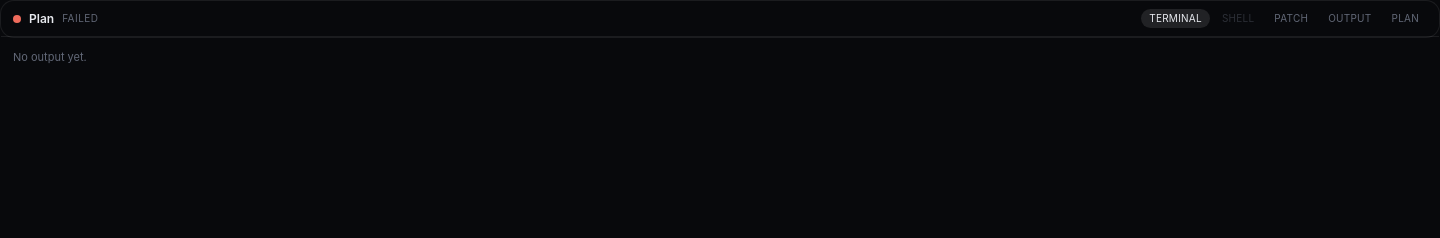
Test: RunTerminal — shell tab gating › renders Plan failure reason without looking like a context request
Click the button "plan".
click(1405, 18)  # box [1384, 9, 1427, 28]
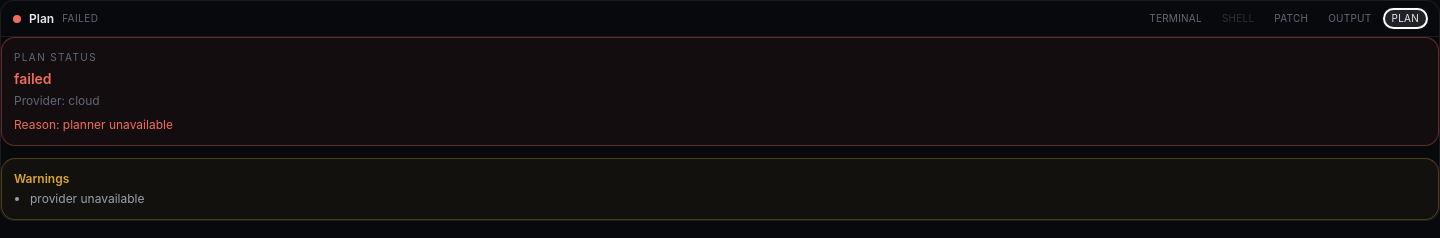
Now the text "Reason: planner unavailable" is shown, box [14, 117, 173, 132]
